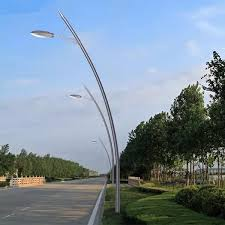light_pole: (86, 39, 124, 209)
